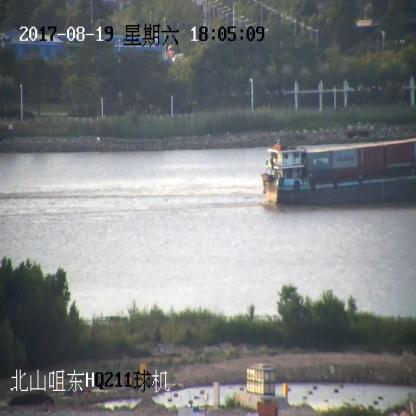Container Ship: (260, 137, 415, 208)
